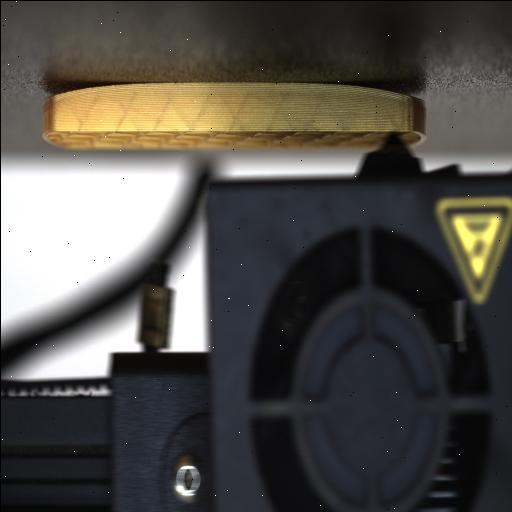warp: (37, 76, 113, 107), (364, 77, 432, 111)
